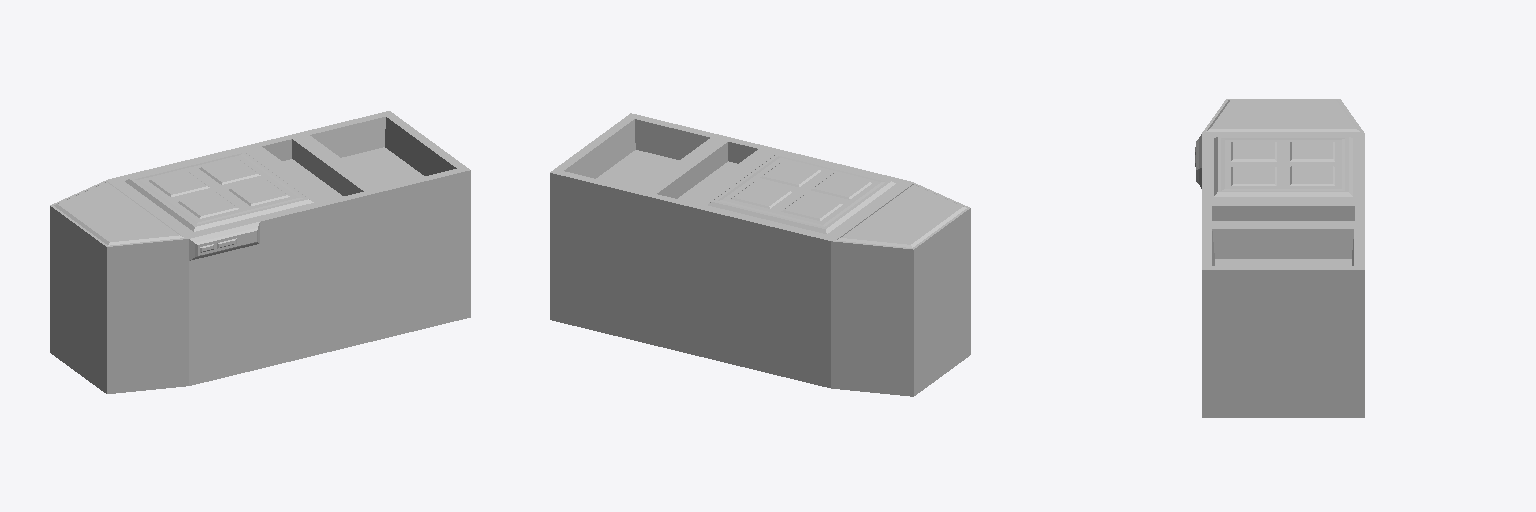
The model's file is Полевая кухня.obj.
3 views of the same model, side by side, from view 1: azimuth 30°, elevation 25°; view 2: azimuth 150°, elevation 25°; view 3: azimuth 270°, elevation 25° (orthographic).
Parts seen in each view (by area): view 1: Cube.001; view 2: Cube.001; view 3: Cube.001.
Boxes of the visible parts, <box> form: Cube.001: <box>50,111,470,393</box>; Cube.001: <box>550,113,970,396</box>; Cube.001: <box>1195,99,1364,417</box>.
Bounding box in the file's own units: 5 × 2.06 × 2.08.